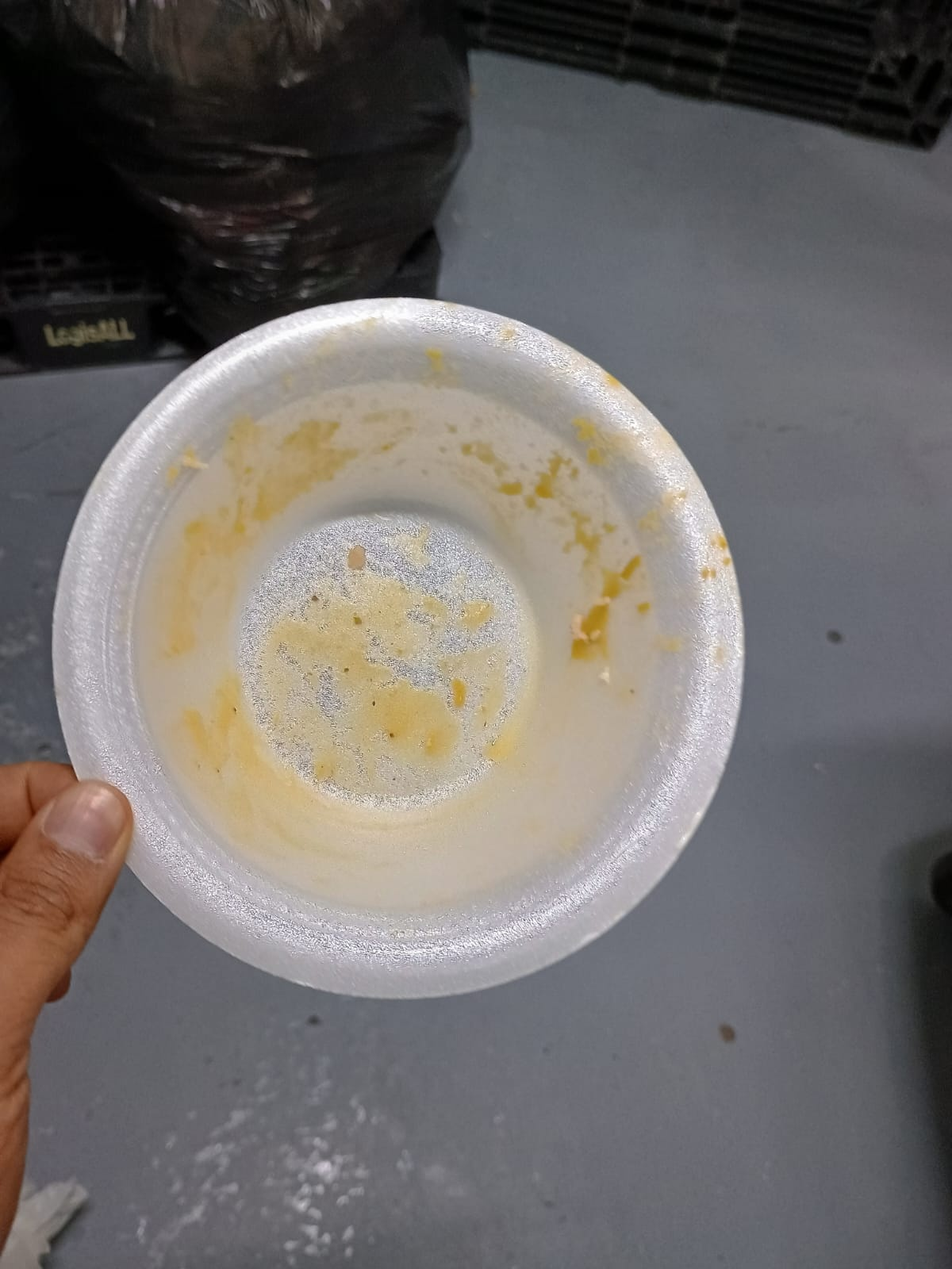Ordinario: (51, 296, 744, 1000)
